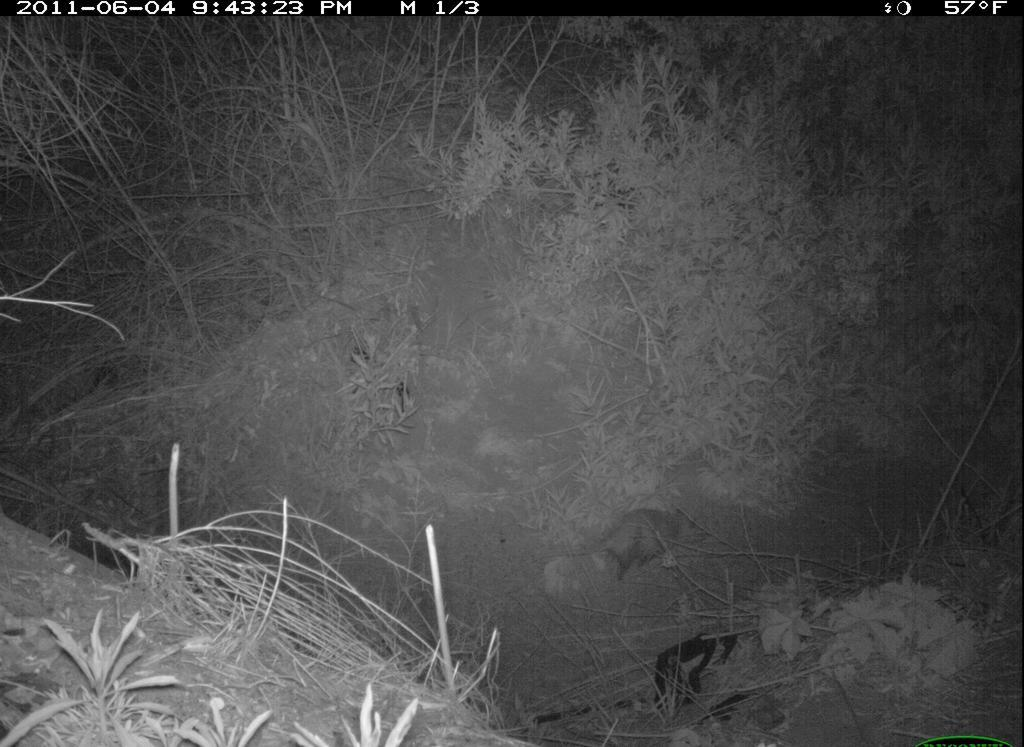opossum: (577, 492, 702, 586)
